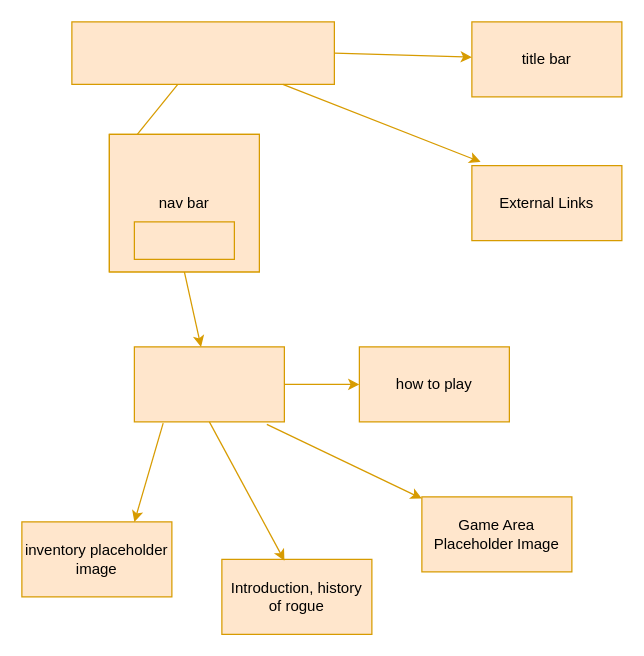
Some shapes in this 644 by 656 pixel diagram are drawn without their labels. The box of each missing label's shape, as (x1, y1, x2, y2) in pixels:
app: (71, 21, 334, 84)
Game: (133, 346, 284, 422)
options: (133, 221, 234, 259)
